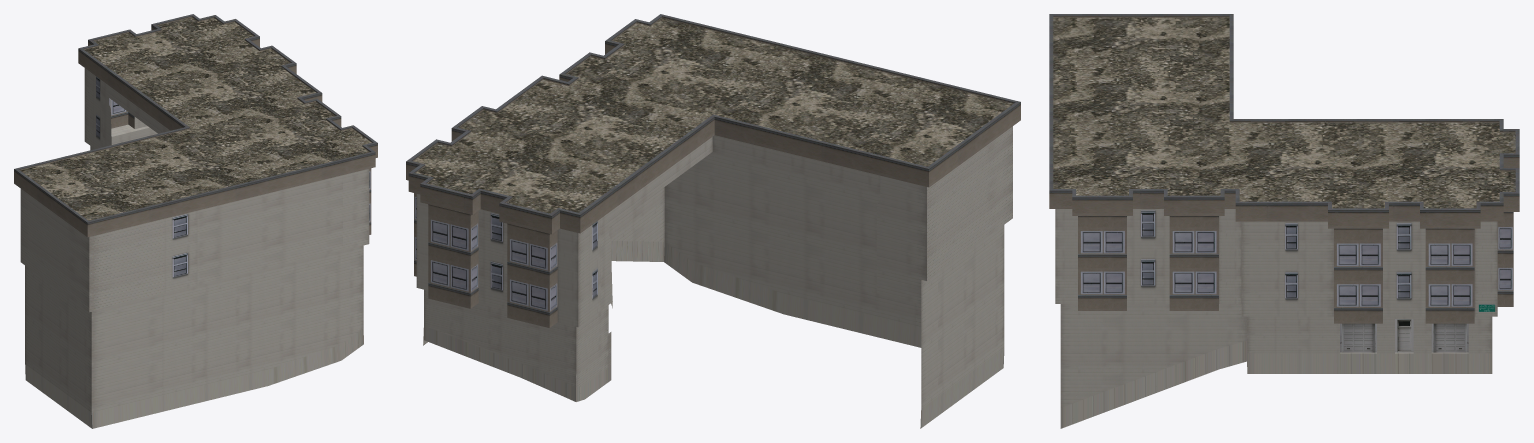
Rendered from vicstuff_sfe06.obj.
3 views of the same model, side by side, from view 1: azimuth 30°, elevation 25°; view 2: azimuth 150°, elevation 25°; view 3: azimuth 270°, elevation 25° (orthographic). The views are drawn at different scales.
Parts seen in each view (by area): view 1: vicstuff_sfe06; view 2: vicstuff_sfe06; view 3: vicstuff_sfe06.
Part boxes in pixels (bbox=[...]): vicstuff_sfe06: bbox=[14, 14, 377, 428]; vicstuff_sfe06: bbox=[406, 14, 1020, 428]; vicstuff_sfe06: bbox=[1049, 14, 1519, 428].
Size of the model in its own units: 48.38 by 30.61 by 49.06.
8 materials, 8 textured.
